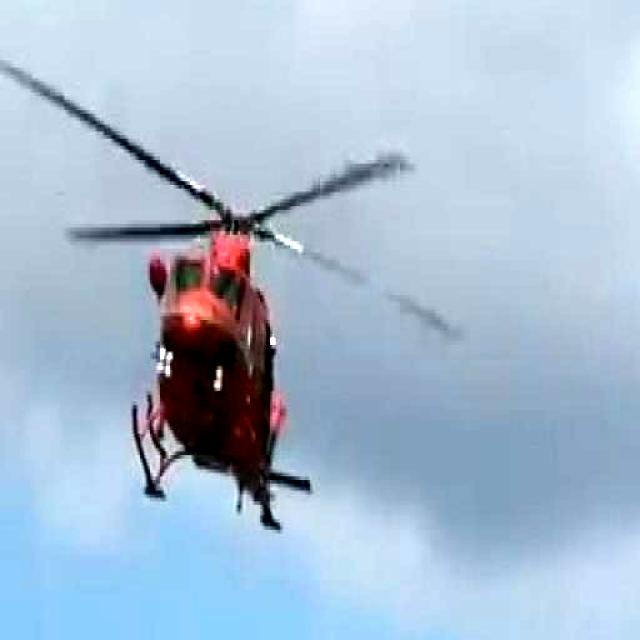drone: (79, 45, 394, 551)
